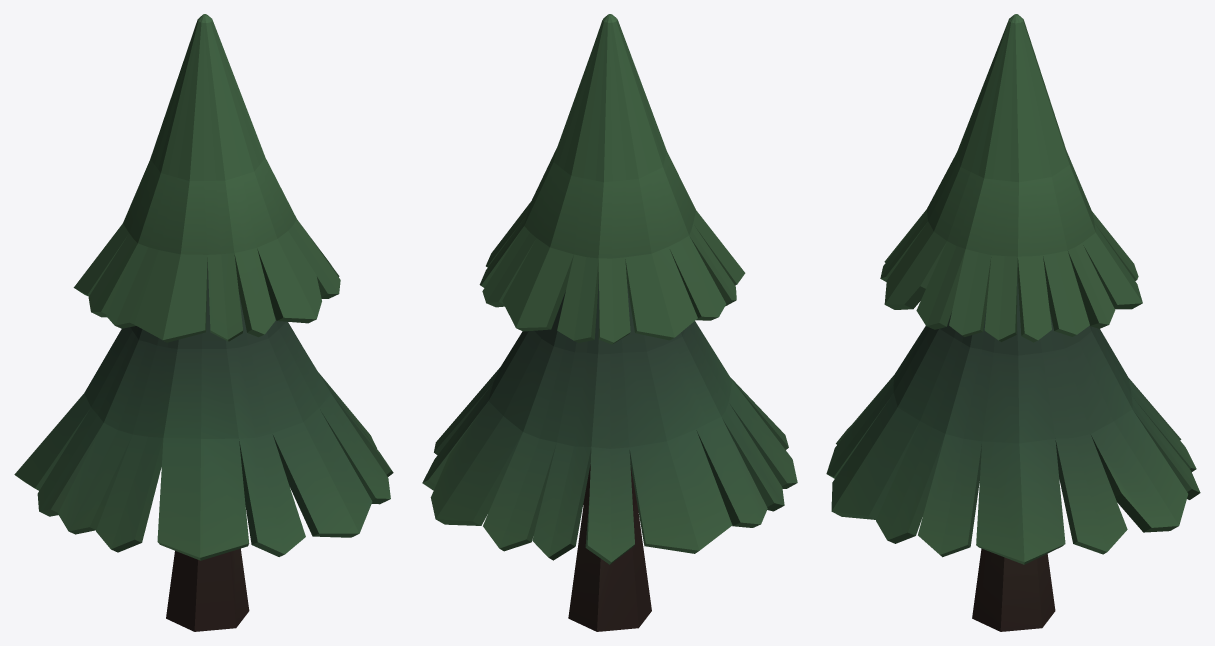
The model's file is mesh_tree_01.glb.
3 renders of one model, left to right at view 1: azimuth 30°, elevation 25°; view 2: azimuth 150°, elevation 25°; view 3: azimuth 270°, elevation 25°, orthographic.
Visible parts, largest first — view 1: mesh_tree_01; view 2: mesh_tree_01; view 3: mesh_tree_01.
Part boxes in pixels (x1,y1,x2,y2): mesh_tree_01: (14, 14, 393, 631); mesh_tree_01: (422, 14, 797, 631); mesh_tree_01: (826, 14, 1200, 631).
Size of the model in its own units: 1.42 by 2.48 by 1.4.
